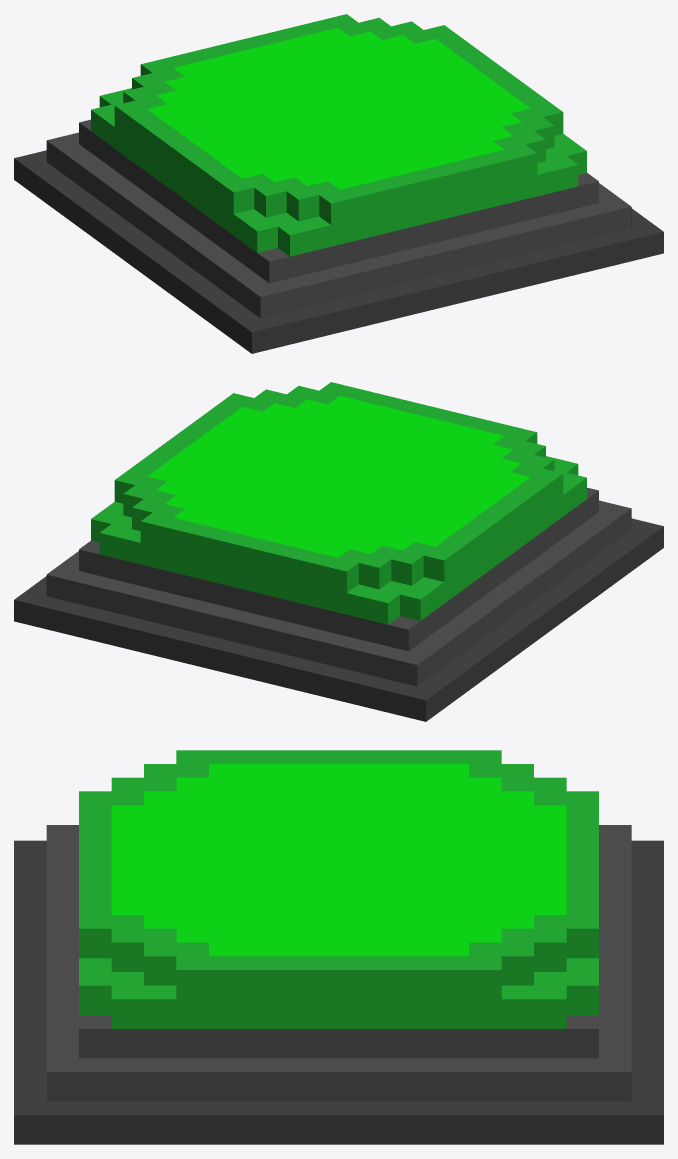
File: greenbutton.obj
3 views of the same model, one above another, from view 1: azimuth 30°, elevation 25°; view 2: azimuth 150°, elevation 25°; view 3: azimuth 270°, elevation 25° (orthographic). The views are drawn at different scales.
Bounding box in the file's own units: 2 × 0.5 × 2.
Materials: 1 (1 with a texture image).
